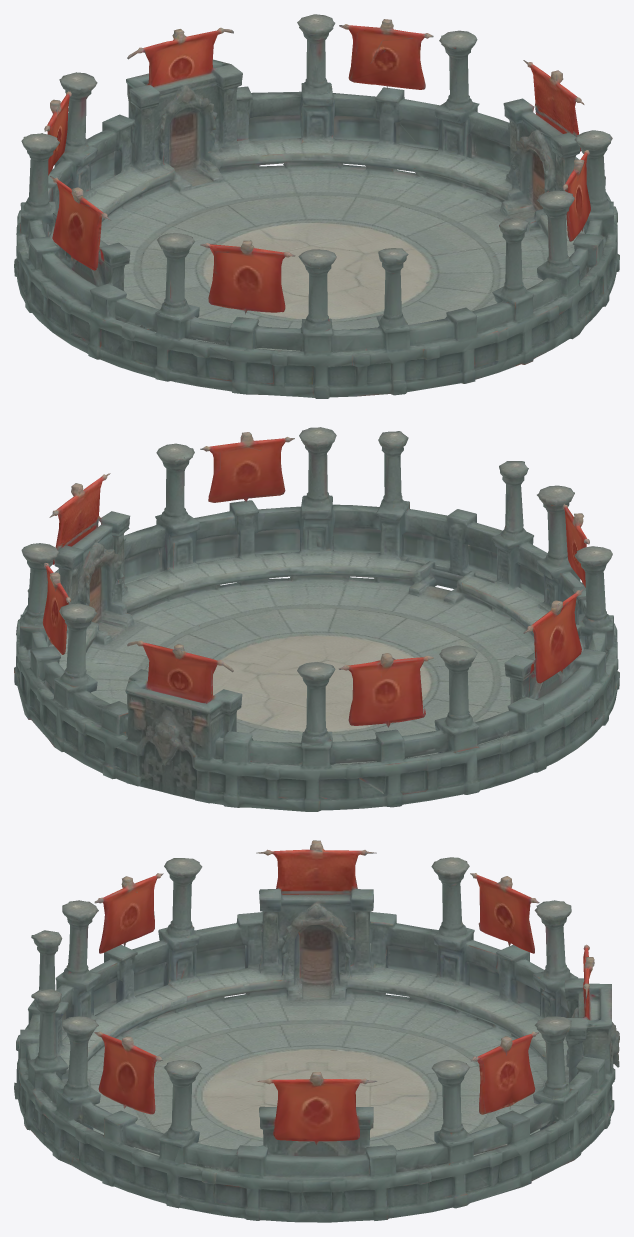
File: arena_base.glb
The picture shows the model from 3 angles, top to bottom: view 1: azimuth 30°, elevation 25°; view 2: azimuth 150°, elevation 25°; view 3: azimuth 270°, elevation 25°; orthographic projection.
Parts seen in each view (by area): view 1: Mesh1.0; view 2: Mesh1.0; view 3: Mesh1.0.
Boxes of the visible parts, x1,y1,x2,y2 form: Mesh1.0: (14,14,619,398); Mesh1.0: (14,427,619,811); Mesh1.0: (14,840,619,1222).
Size of the model in its own units: 19.36 by 5 by 19.5.
Materials: 1 (1 with a texture image).
